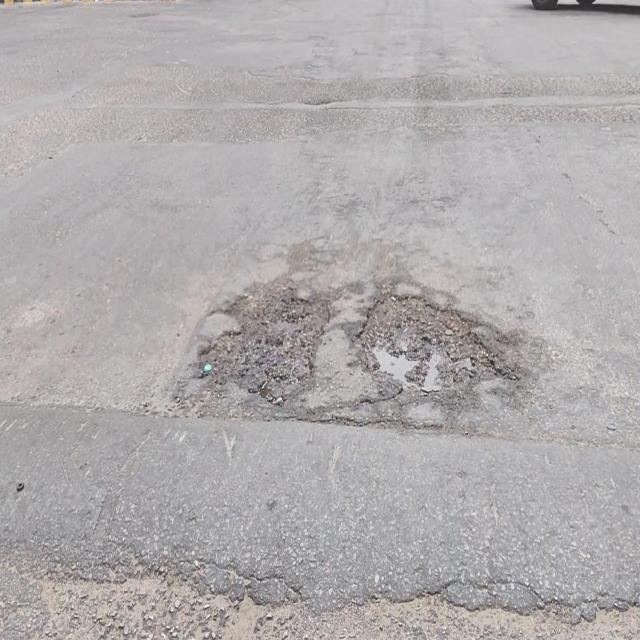Potholes: (200, 283, 331, 402), (359, 286, 501, 391)
